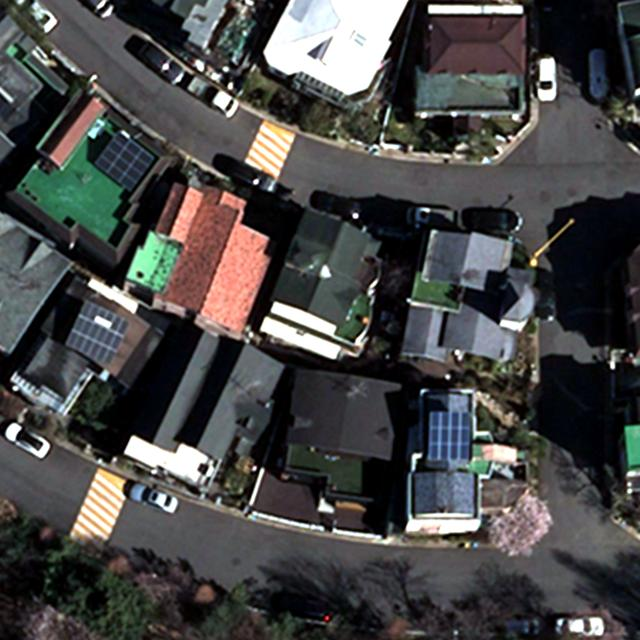solarpanel: (65, 296, 131, 371), (93, 129, 157, 192), (425, 410, 471, 464)
